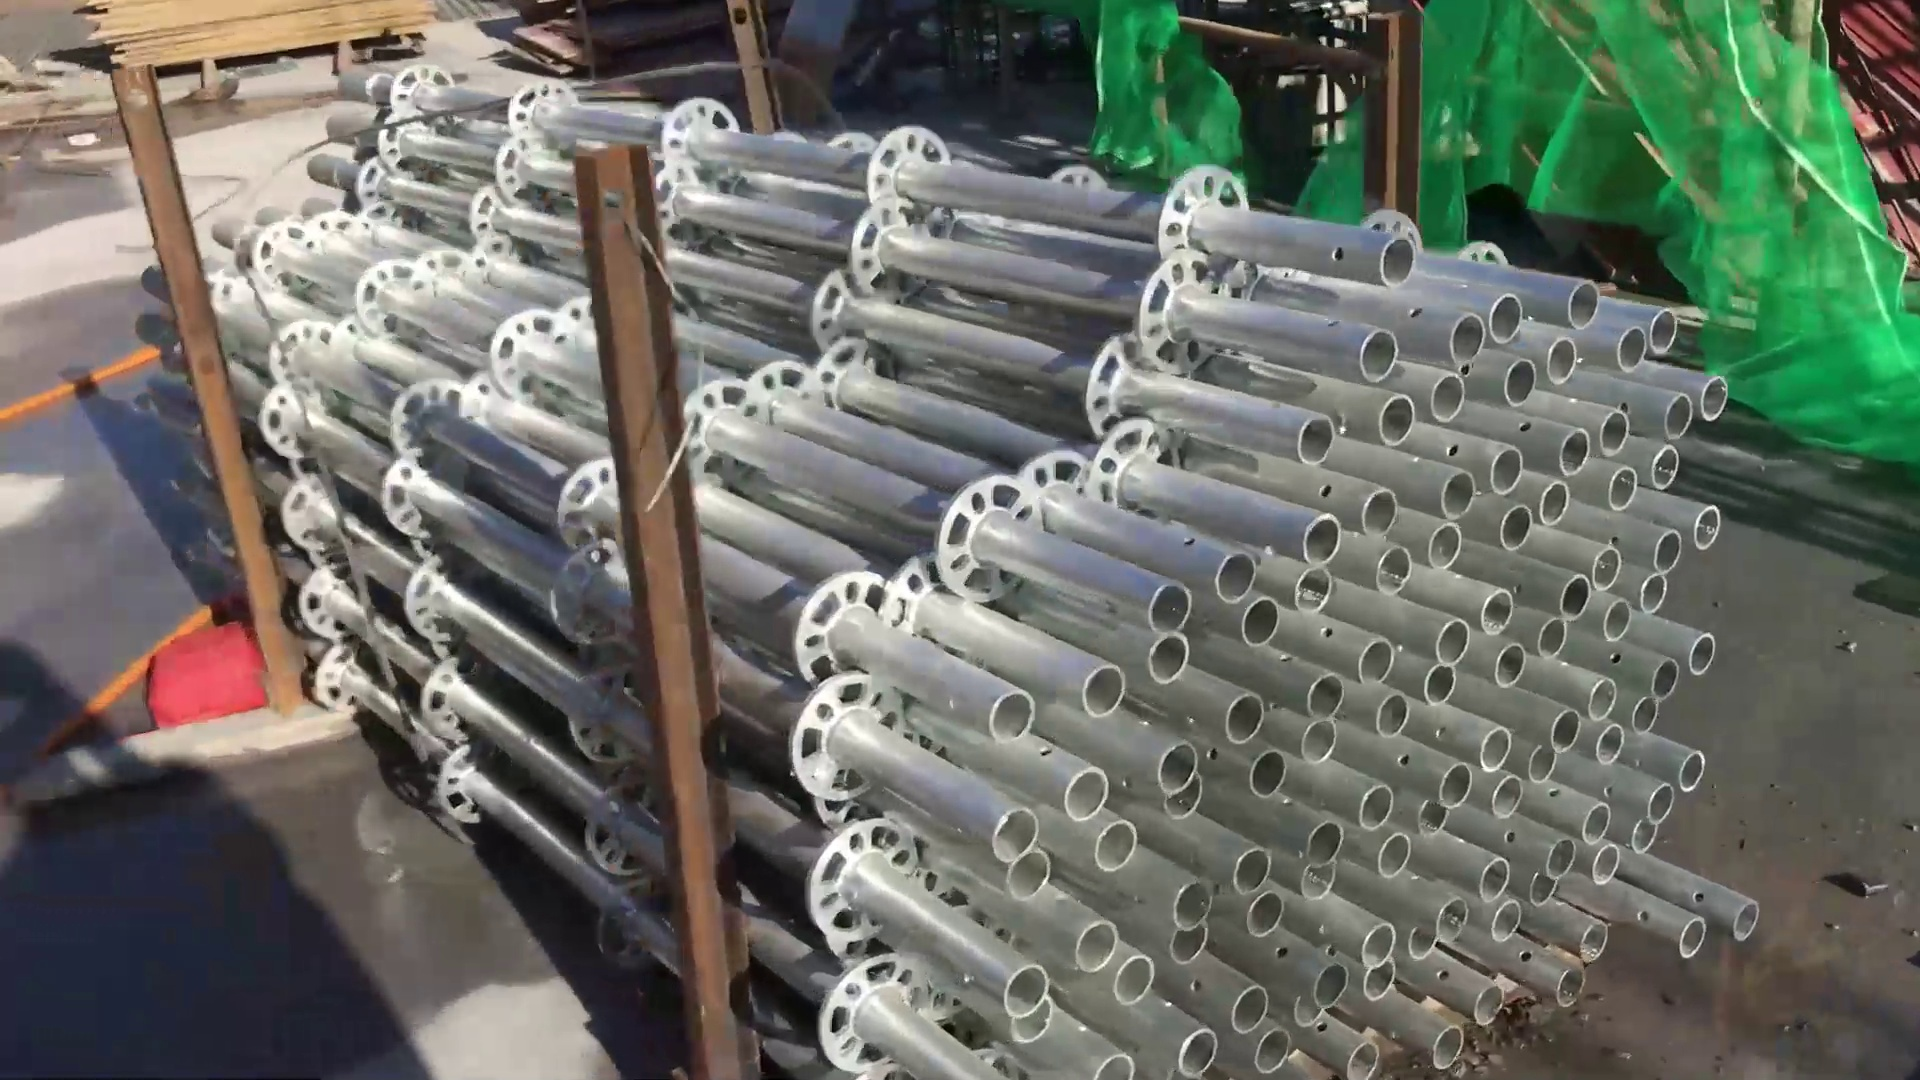board: (80, 1, 455, 80)
scaffold: (187, 51, 1855, 1080)
